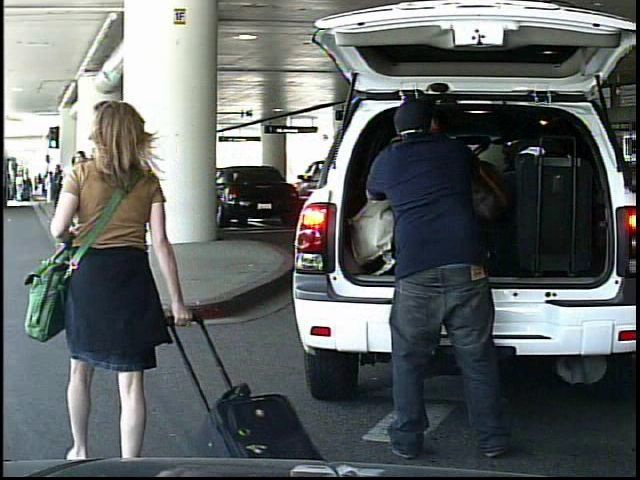person: (362, 96, 525, 460), (73, 90, 224, 451), (14, 173, 25, 204), (36, 174, 46, 201)
